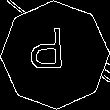P_S: (36, 29, 74, 81)
